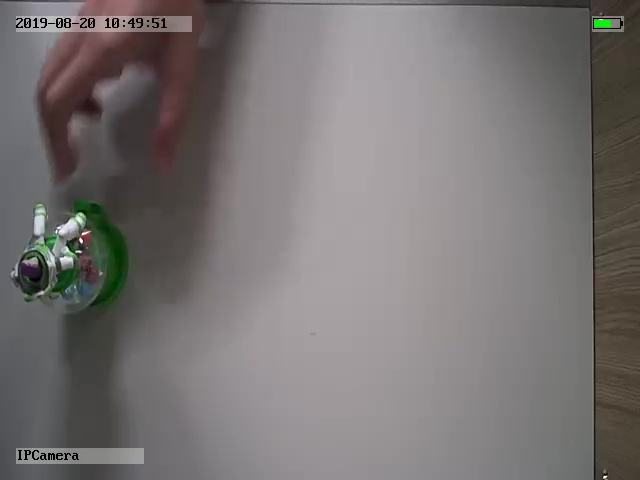buzz: (9, 201, 130, 318)
